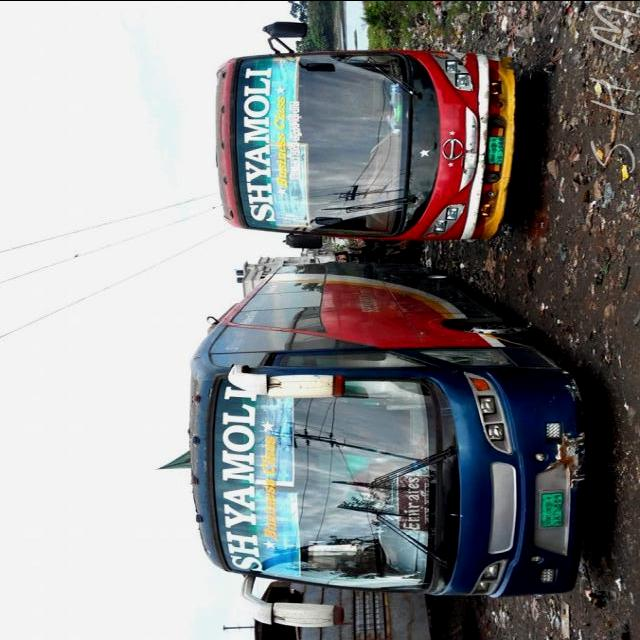bus: (188, 259, 588, 629), (213, 20, 519, 252)
